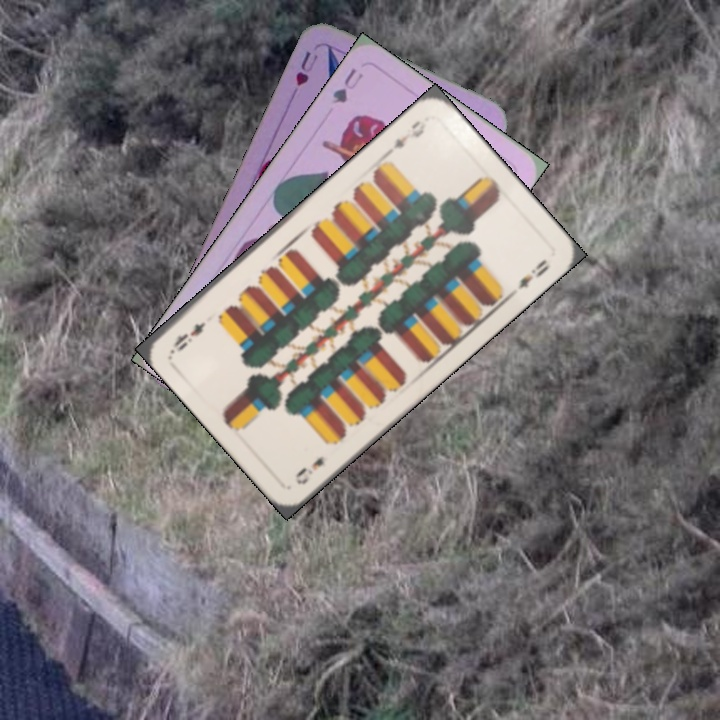E9: (383, 116, 429, 158), (291, 452, 327, 488)
GU: (328, 64, 366, 107)
HU: (291, 47, 321, 89)
